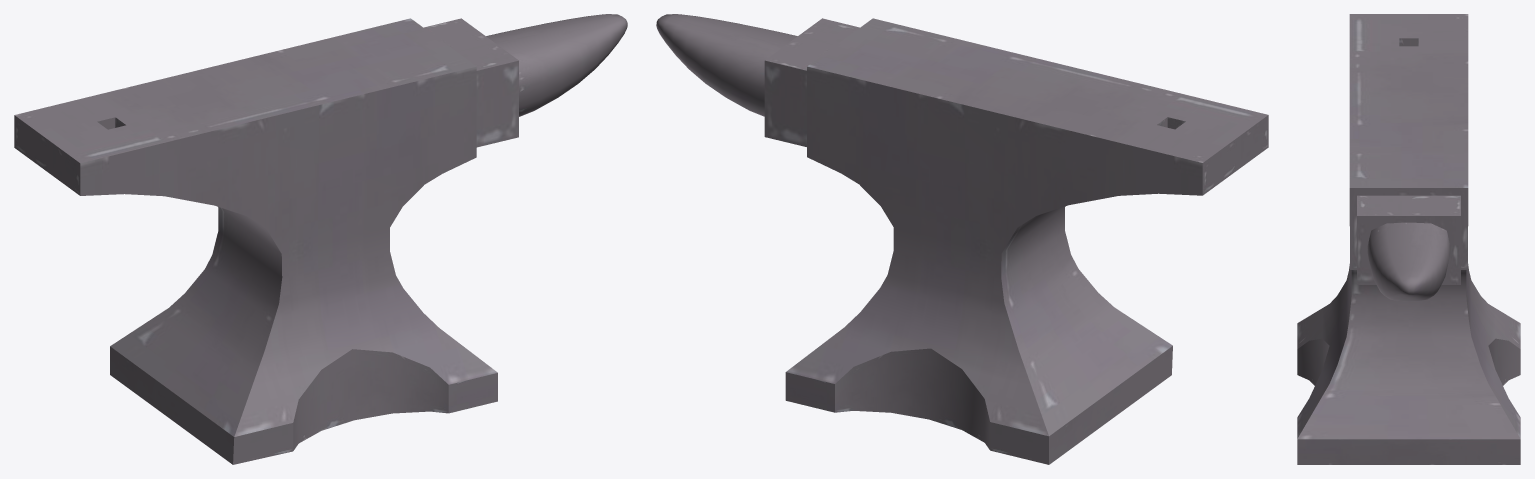
The model's file is Anvil.gltf.
3 renders of one model, left to right at view 1: azimuth 30°, elevation 25°; view 2: azimuth 150°, elevation 25°; view 3: azimuth 270°, elevation 25°, orthographic. The views are drawn at different scales.
Visible parts, largest first — view 1: Anvil; view 2: Anvil; view 3: Anvil.
Boxes of the visible parts, x1,y1,x2,y2 form: Anvil: (14, 14, 627, 464); Anvil: (656, 14, 1268, 464); Anvil: (1297, 14, 1520, 464).
Size of the model in its own units: 1.08 by 0.556 by 0.4016.
Materials: 1 (1 with a texture image).
